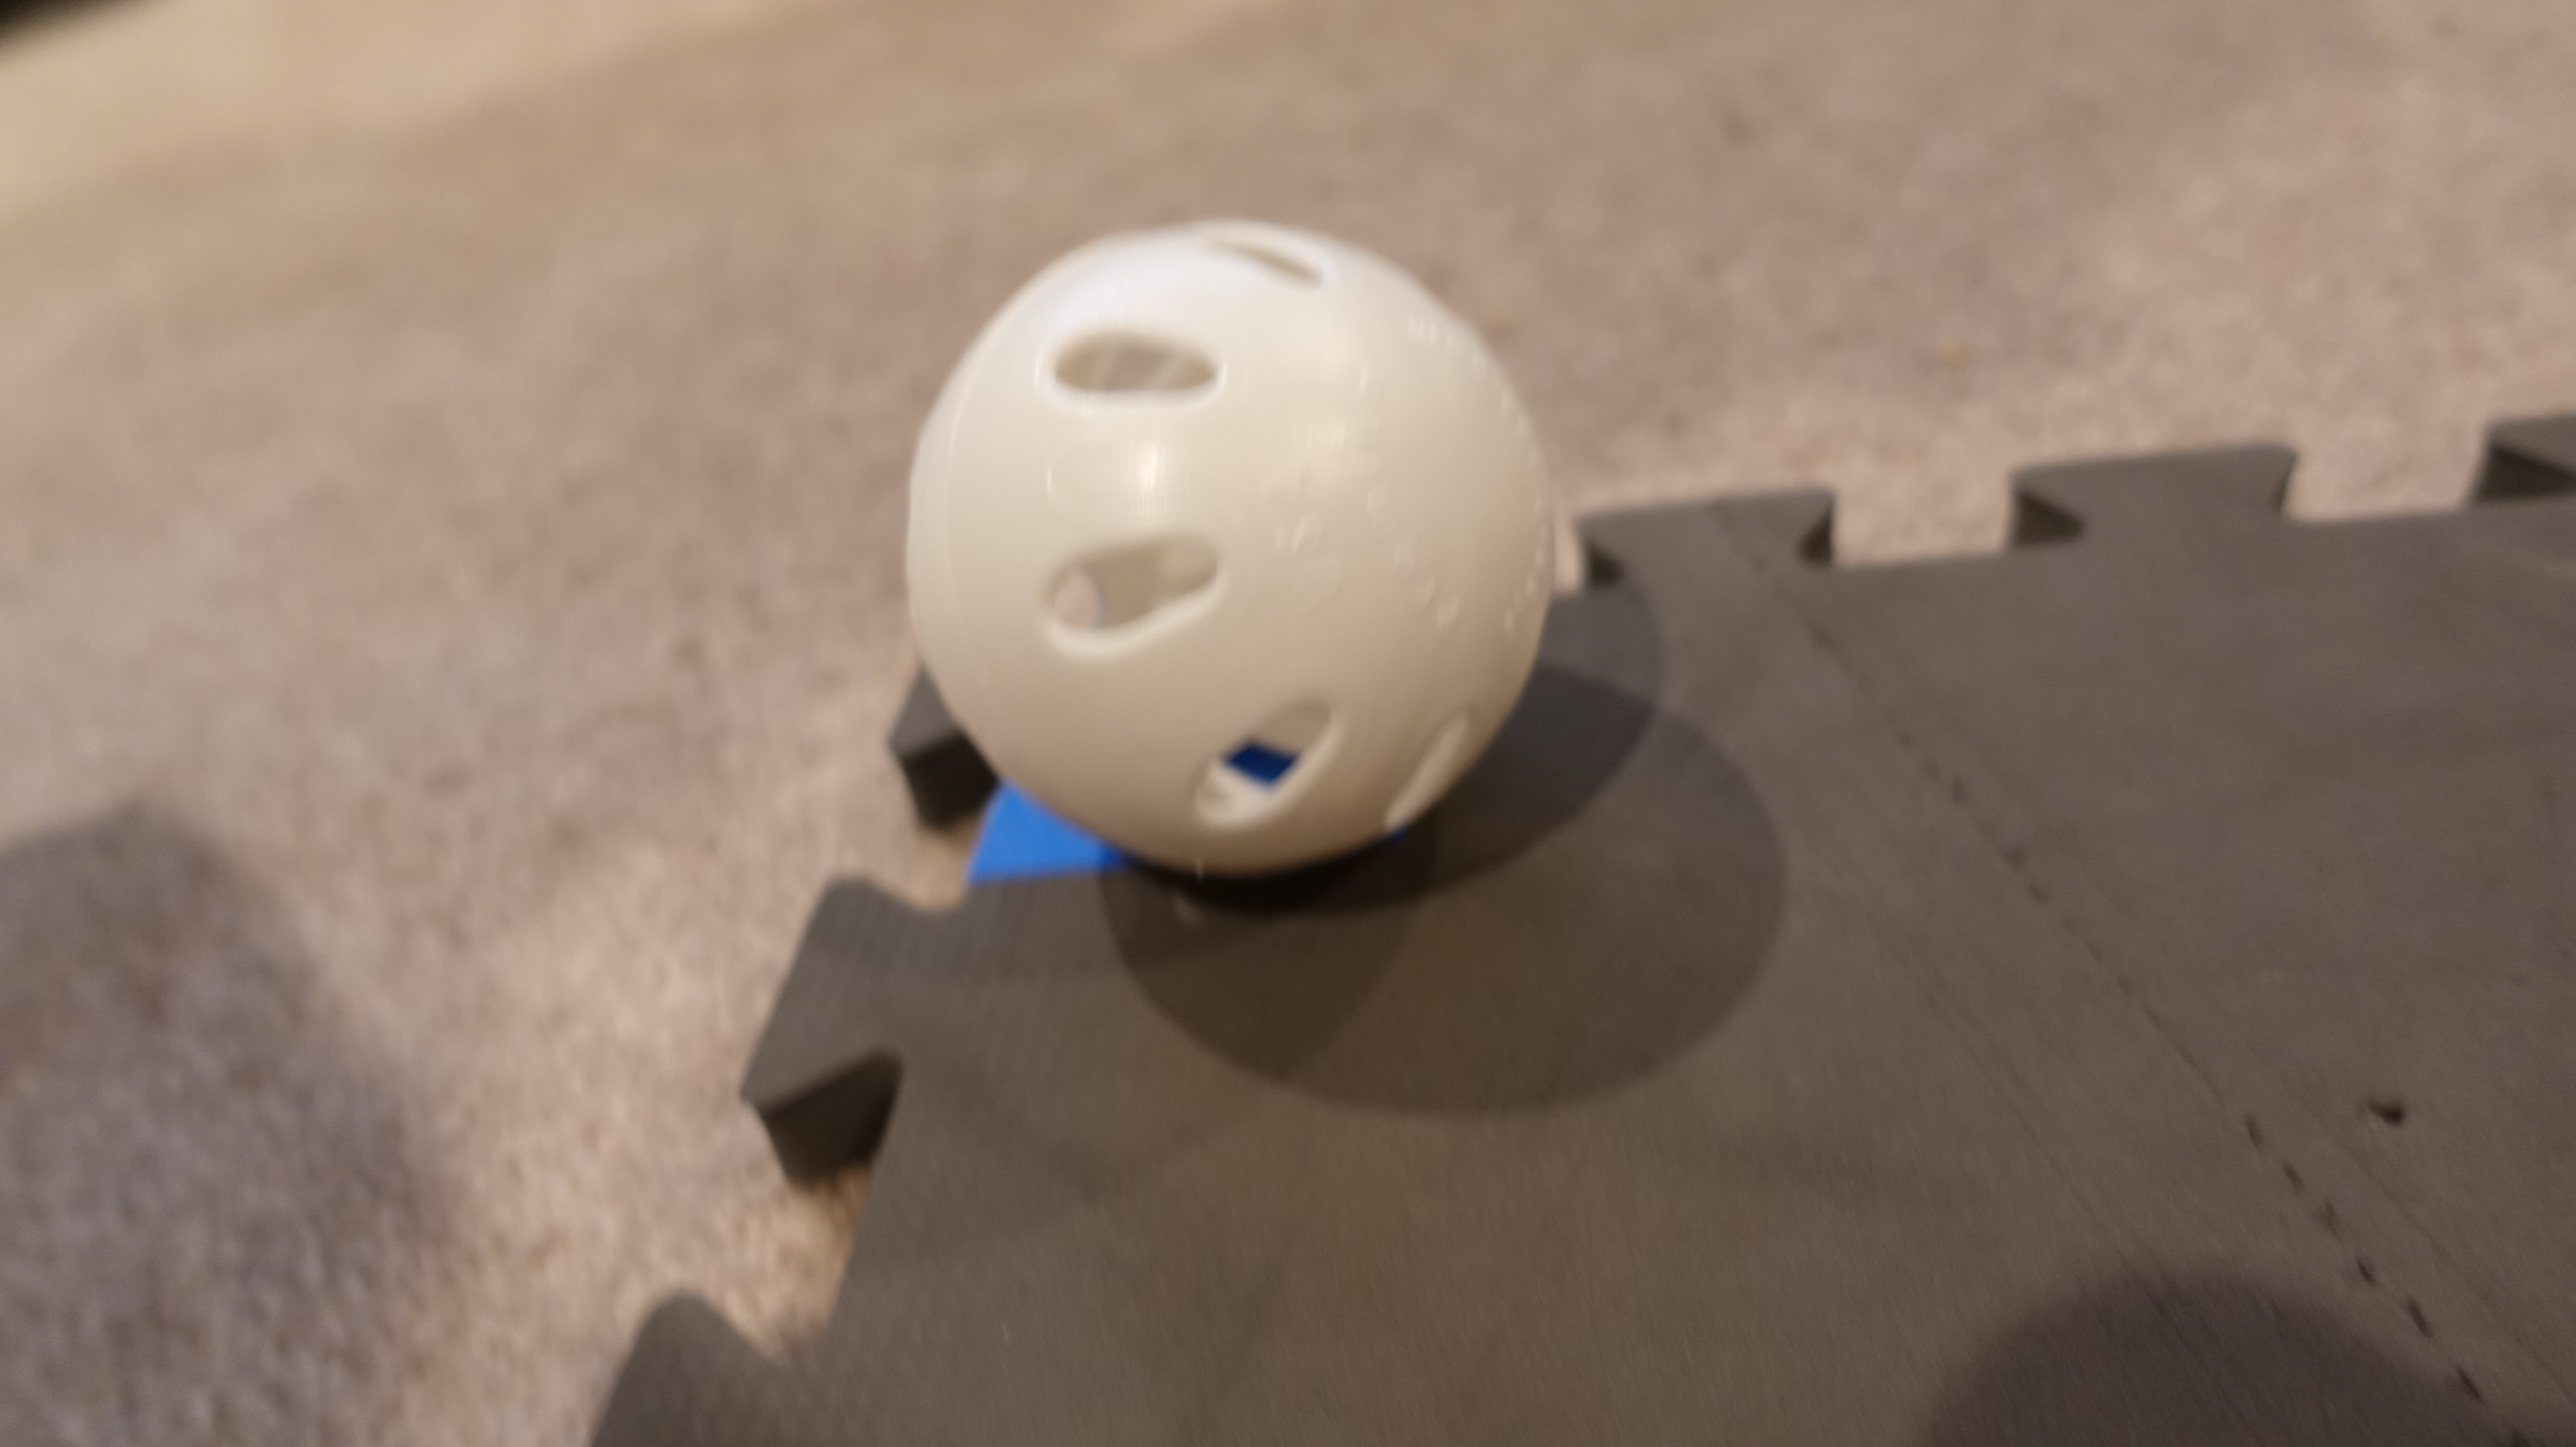silver: (893, 218, 1560, 888)
